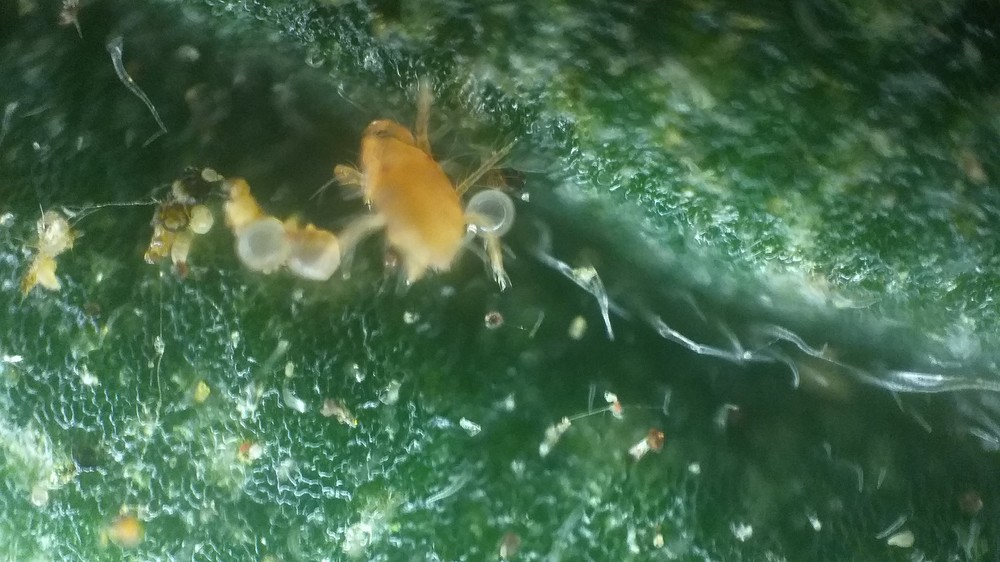Aracnido Rojo: (293, 85, 534, 312)
